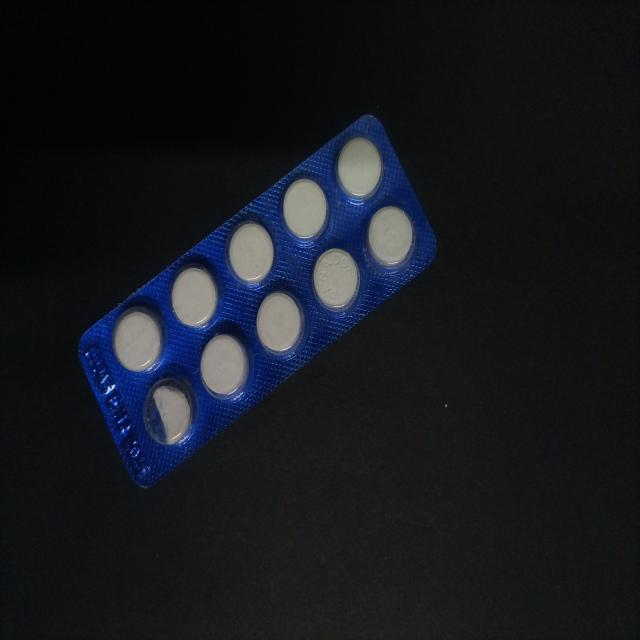defect: (139, 375, 199, 452)
